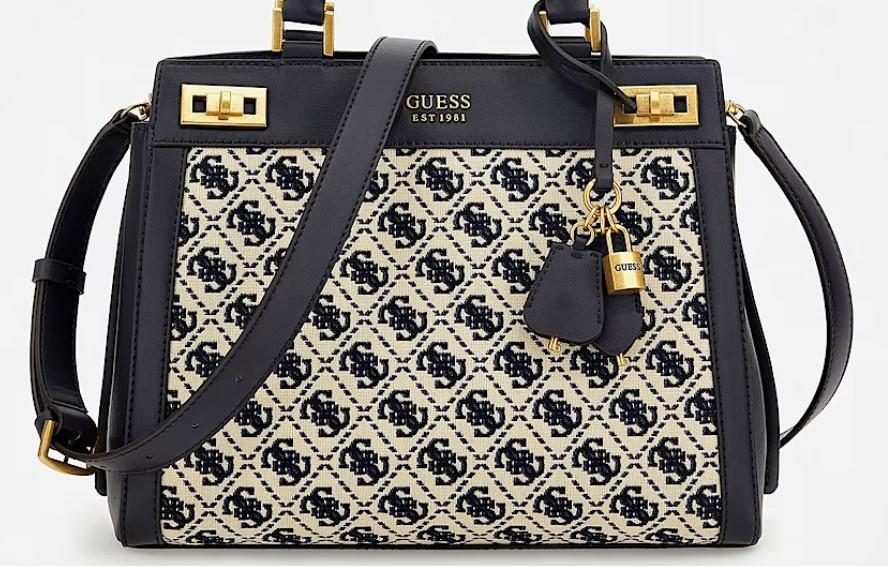GUESS: (406, 94, 471, 109), (615, 263, 641, 271)
